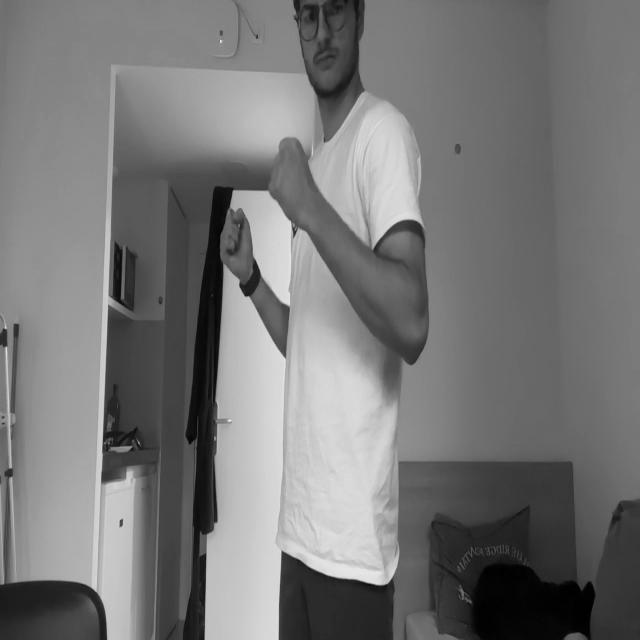elbow: (384, 272, 429, 366)
hand: (269, 133, 311, 219), (217, 212, 255, 276)
shoulder: (360, 111, 420, 197)
